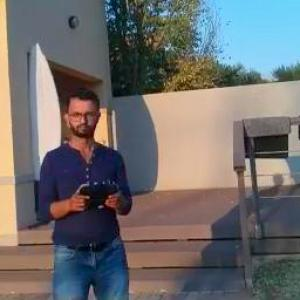follow: (33, 82, 139, 299)
